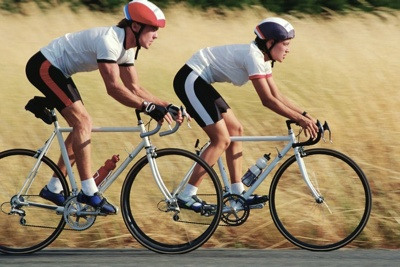helmet: (124, 1, 167, 54), (255, 15, 299, 65)
